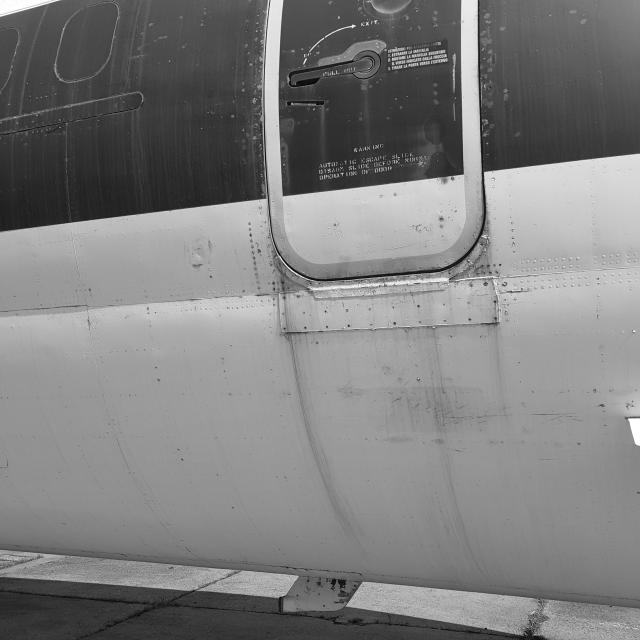Rupture: (43, 122, 69, 136)
